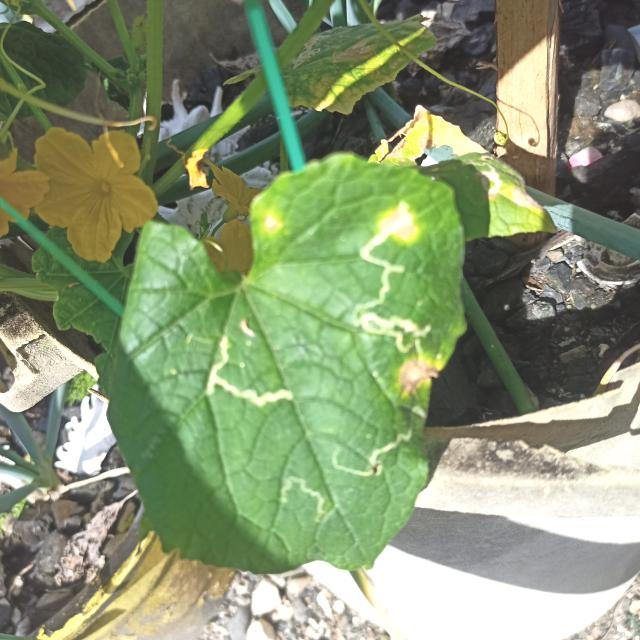disease_cucumber: (397, 354, 438, 400), (380, 208, 420, 245), (258, 210, 284, 238)
